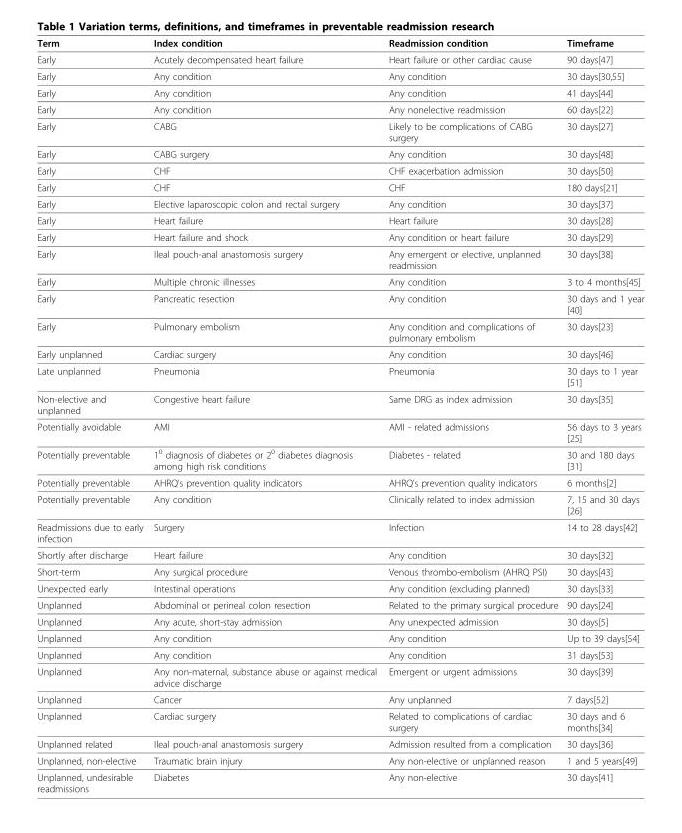table: (36, 36, 643, 793)
table column: (147, 36, 382, 793), (382, 36, 561, 793), (36, 36, 147, 793), (561, 36, 643, 793)
table column header: (36, 36, 643, 50)
table row: (36, 445, 643, 474), (36, 117, 643, 145), (36, 245, 643, 273), (36, 289, 643, 317), (36, 317, 643, 345), (36, 362, 643, 390), (36, 390, 643, 418), (36, 490, 643, 518), (36, 518, 643, 546), (36, 662, 643, 690), (36, 707, 643, 735), (36, 418, 643, 445), (36, 768, 643, 793), (36, 50, 643, 67), (36, 67, 643, 84), (36, 100, 643, 117), (36, 145, 643, 162), (36, 178, 643, 195), (36, 211, 643, 228), (36, 228, 643, 245), (36, 345, 643, 362), (36, 546, 643, 563), (36, 579, 643, 596), (36, 596, 643, 613), (36, 629, 643, 646), (36, 690, 643, 707), (36, 735, 643, 752), (36, 84, 643, 100), (36, 162, 643, 178), (36, 195, 643, 211), (36, 273, 643, 289), (36, 474, 643, 490), (36, 563, 643, 579), (36, 613, 643, 629), (36, 646, 643, 662), (36, 752, 643, 768), (36, 36, 643, 50)
